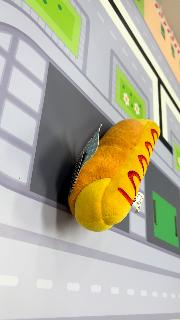hotdog: (67, 118, 161, 232)
